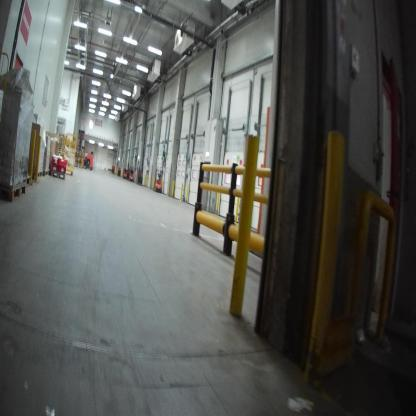pallet: (1, 180, 28, 202), (50, 170, 67, 180), (22, 175, 32, 187), (42, 170, 50, 178), (36, 170, 43, 179), (32, 171, 36, 183)
pallet_truck: (152, 164, 165, 196), (82, 148, 95, 173), (136, 164, 144, 186), (122, 162, 130, 181), (108, 161, 117, 176), (129, 163, 135, 183), (117, 167, 122, 178)
